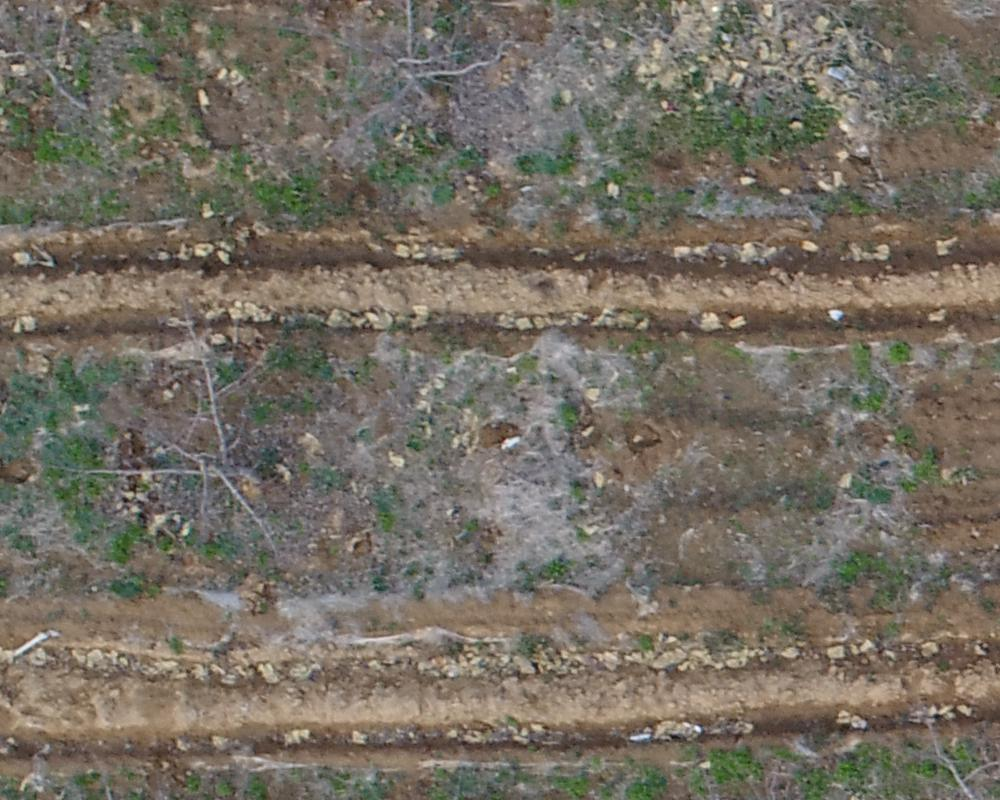apple: (89, 310, 318, 546), (316, 10, 522, 133), (10, 10, 137, 141)
